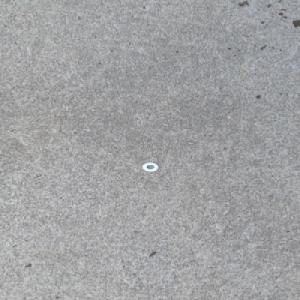Washer: (141, 161, 159, 172)
